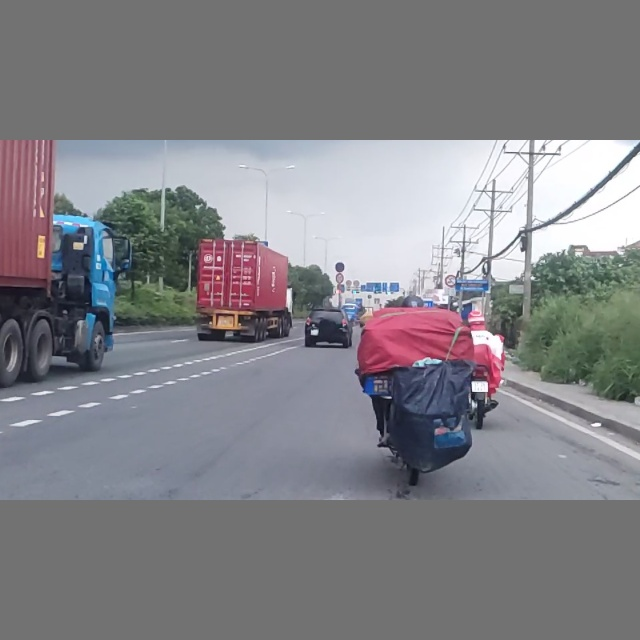P.107: (444, 275, 457, 287)
P.130: (334, 261, 345, 272)
